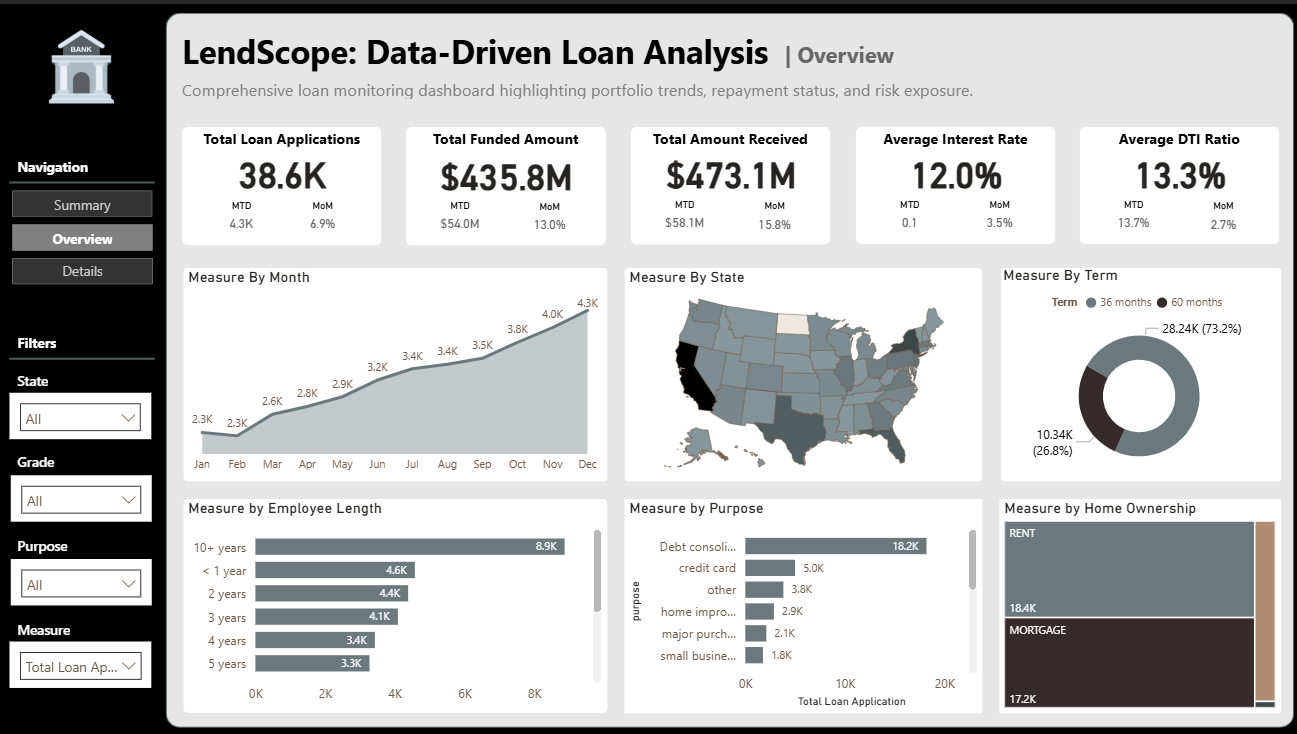

What the dashboard file says about the page in this screenshot:
{"tool":"powerbi","page":{"name":"Page 1","canvas":[1280,720],"ordinal":0},"visuals":[{"type":"group","id":"g1","title":"Heading","box":[0,8.8,1273.3,701.9],"z":0},{"type":"shape","title":"White Background","box":[165.7,8.8,1107.6,701.9],"z":0,"group":"g1"},{"type":"shape","title":"Total Loan Applications","box":[181.8,120,195.9,117.1],"z":0,"group":"g3"},{"type":"shape","title":"Total Loan Applications","box":[401.8,120,196.5,117.1],"z":0,"group":"g5"},{"type":"shape","title":"Total Loan Applications","box":[842.4,120,195.9,115.6],"z":0,"group":"g9"},{"type":"shape","title":"Total Loan Applications","box":[1062.4,120,196.1,115.9],"z":0,"group":"g10"},{"type":"shape","title":"Total Loan Applications","box":[622.4,120.6,195.8,116.1],"z":0,"group":"g7"},{"type":"shape","title":"Navigation Line","box":[12,166,142.4,16.7],"z":0,"group":"g11"},{"type":"shape","box":[183.6,258.2,529.1,220],"z":0,"group":"g12"},{"type":"shape","box":[731.4,258.6,529.1,220],"z":0,"group":"g13"},{"type":"group","id":"g2","title":"Filters","box":[12.5,320,142.9,35.7],"z":0,"group":"g16"},{"type":"shape","title":"Filters Line","box":[12.5,339,142.4,16.7],"z":0,"group":"g2"},{"type":"shape","title":"State","box":[20.4,361,73.9,18.3],"z":0,"group":"g4"},{"type":"shape","title":"Grade","box":[20.5,437.1,52.7,23.3],"z":0,"group":"g6"},{"type":"shape","box":[181.4,494.3,1078.6,201.4],"z":0,"group":"g14"},{"type":"shape","title":"Purpose","box":[20.5,518.6,52.7,23.3],"z":0,"group":"g8"},{"type":"image","title":"Logo","box":[0,21.3,165.6,82.1],"z":1000,"group":"g1"},{"type":"group","id":"g3","title":"Card 1","box":[181.8,120,195.9,117.1],"z":1000},{"type":"card","title":"Card - Loan Applications","fields":{"Values":["Bank_Loan_Data.Avg Interest Rate"]},"box":[858.4,144.4,165.7,41.7],"z":1000,"group":"g9"},{"type":"card","title":"Card - Loan Applications","fields":{"Values":["Bank_Loan_Data.Average DTI"]},"box":[1078.5,144.5,165.9,41.8],"z":1000,"group":"g10"},{"type":"card","title":"Card - Loan Applications","fields":{"Values":["Bank_Loan_Data.Total Loan Application"]},"box":[197.8,144.7,165.7,42.2],"z":1000,"group":"g3"},{"type":"card","title":"Card - Loan Applications","fields":{"Values":["Bank_Loan_Data.Total Amount Received"]},"box":[638.4,145.1,165.6,41.9],"z":1000,"group":"g7"},{"type":"card","title":"Card - Loan Applications","fields":{"Values":["Bank_Loan_Data.Total Funded Amount"]},"box":[417.9,146.5,166,41.2],"z":1000,"group":"g5"},{"type":"shape","title":"Navigation","box":[19.1,147,115.2,23.3],"z":1000,"group":"g11"},{"type":"shape","title":"Filters","box":[19.6,320,115.2,23.3],"z":1000,"group":"g2"},{"type":"group","id":"g4","title":"State","box":[12.8,361,139,66.2],"z":1000,"group":"g16"},{"type":"card","title":"Card - Loan Applications","fields":{"Values":["Bank_Loan_Data.Good Loan Percentage"]},"box":[218,366,165,41],"z":1000,"group":"g12"},{"type":"card","title":"Card - Loan Applications","fields":{"Values":["Bank_Loan_Data.Bad Loan Percentage"]},"box":[765.8,366.4,165,41],"z":1000,"group":"g13"},{"type":"slicer","fields":{"Values":["Bank_Loan_Data.address_state"]},"box":[12.8,382,139,45.2],"z":1000,"group":"g4"},{"type":"slicer","fields":{"Values":["Bank_Loan_Data.grade"]},"box":[13.8,463.1,138,45.3],"z":1000,"group":"g6"},{"type":"tableEx","fields":{"Values":["Bank_Loan_Data.loan_status","Bank_Loan_Data.Total Loan Application","Bank_Loan_Data.Total Funded Amount","Bank_Loan_Data.Total Amount Received","Bank_Loan_Data.MTD Funded Amount","Bank_Loan_Data.MTD Amount Received","Bank_Loan_Data.Avg Interest Rate","Bank_Loan_Data.Average DTI"]},"box":[196.4,510.1,1052.5,174.2],"z":1000,"group":"g14"},{"type":"slicer","fields":{"Values":["Bank_Loan_Data.purpose"]},"box":[13.8,544.6,138,45.3],"z":1000,"group":"g8"},{"type":"shape","title":"Title","box":[181.7,24.9,587.7,41.7],"z":2000,"group":"g1"},{"type":"group","id":"g5","title":"Card 2","box":[401.8,120,196.5,117.1],"z":2000},{"type":"shape","title":"Summary - A","box":[14.1,182.3,138,26.7],"z":2000,"group":"g15"},{"type":"card","title":"MTD","fields":{"Values":["Bank_Loan_Data.MTD Avg Interest Rate"]},"box":[866.9,191.4,57,37.2],"z":2000,"group":"g9"},{"type":"card","title":"MTD","fields":{"Values":["Bank_Loan_Data.MTD Avg DTI"]},"box":[1086.9,191.5,57,37.3],"z":2000,"group":"g10"},{"type":"card","title":"MTD","fields":{"Values":["Bank_Loan_Data.MTD Amount Received"]},"box":[646.8,192.3,56.9,37.4],"z":2000,"group":"g7"},{"type":"card","title":"MTD","fields":{"Values":["Bank_Loan_Data.MTD Loan Applications"]},"box":[218.3,192.8,42.9,37.1],"z":2000,"group":"g3"},{"type":"card","title":"MTD","fields":{"Values":["Bank_Loan_Data.MTD Funded Amount"]},"box":[426.3,192.9,57.1,36.8],"z":2000,"group":"g5"},{"type":"shape","box":[763.3,269.3,166.7,37.8],"z":2000,"group":"g13"},{"type":"donutChart","fields":{"Y":["Bank_Loan_Data.Total Loan Application"],"Category":["Bank_Loan_Data.Good vs Bad Loan"]},"box":[193,295,212,183],"z":2000,"group":"g12"},{"type":"group","id":"g6","title":"Grade","box":[13.8,437.1,138.6,71.4],"z":2000,"group":"g16"},{"type":"shape","title":"Subtitle","box":[181.7,72.8,786.5,20.9],"z":3000,"group":"g1"},{"type":"group","id":"g7","title":"Card 3","box":[622.4,120.6,195.9,116.5],"z":3000},{"type":"card","title":"MoM","fields":{"Values":["Bank_Loan_Data.MoM Avg Interest Rate"]},"box":[955,191.7,56.7,36.9],"z":3000,"group":"g9"},{"type":"card","title":"MoM","fields":{"Values":["Bank_Loan_Data.MoM Avg DTI"]},"box":[1175.1,191.9,56.8,36.9],"z":3000,"group":"g10"},{"type":"card","title":"MoM","fields":{"Values":["Bank_Loan_Data.MoM Amount Received"]},"box":[734.9,192.6,56.7,37],"z":3000,"group":"g7"},{"type":"card","title":"MoM","fields":{"Values":["Bank_Loan_Data.Month On Month Loan Applications"]},"box":[298.3,192.8,42.9,37.1],"z":3000,"group":"g3"},{"type":"card","title":"MoM","fields":{"Values":["Bank_Loan_Data.MoM Funded Amount"]},"box":[514.6,193.3,56.8,36.4],"z":3000,"group":"g5"},{"type":"shape","title":"Details - IA","box":[14,249.3,138.5,26.2],"z":3000,"group":"g15"},{"type":"shape","box":[215.5,268.9,166.7,37.8],"z":3000,"group":"g12"},{"type":"donutChart","fields":{"Y":["Bank_Loan_Data.Total Loan Application"],"Category":["Bank_Loan_Data.Good vs Bad Loan"]},"box":[740.8,295.4,212,183],"z":3000,"group":"g13"},{"type":"group","id":"g8","title":"Purpose","box":[13.8,518.6,138.6,71.4],"z":3000,"group":"g16"},{"type":"shape","title":"Summary","box":[769.4,34.7,114.1,29.4],"z":4000,"group":"g1"},{"type":"group","id":"g9","title":"Card 4","box":[842.4,120,195.9,117.1],"z":4000},{"type":"shape","title":"Overview - IA","box":[13.9,215.8,138.3,26.7],"z":4000,"group":"g15"},{"type":"cardVisual","fields":{"Data":["Bank_Loan_Data.Good Loan Applications","Bank_Loan_Data.Good Loan Funded Amount","Bank_Loan_Data.Good Loan Amount Received"]},"box":[426.2,268.8,277.5,200],"z":4000,"group":"g12"},{"type":"cardVisual","fields":{"Data":["Bank_Loan_Data.Bad Loan Applications","Bank_Loan_Data.Bad Loan Funded Amount","Bank_Loan_Data.Bad Loan Amount Received"]},"box":[974,269.2,277.5,200],"z":4000,"group":"g13"},{"type":"group","id":"g10","title":"Card 5","box":[1062.4,120,197.1,117.1],"z":5000},{"type":"group","id":"g11","title":"Navigation","box":[12,147,142.4,35.7],"z":6000,"group":"g15"},{"type":"group","id":"g12","title":"Good Loan","box":[183.6,258.2,529.1,220],"z":6000},{"type":"group","id":"g13","title":"Bad Loan","box":[731.4,258.6,529.1,220],"z":7000},{"type":"group","id":"g14","title":"Table","box":[181.4,494.3,1078.6,201.4],"z":8000},{"type":"group","id":"g15","title":"Navigation Whole","box":[12,147,142.3,128.8],"z":9000},{"type":"group","id":"g16","title":"Filters Whole","box":[12.3,320,143,351.5],"z":10000}]}

Visuals, with their boxes in screenshot pixels (x1, y1, x2, y2), scaled from the page's 1280x720 canvas onto the 1297x734 screenshot:
"Heading" group: BBox(0, 9, 1290, 725)
"White Background" shape: BBox(168, 9, 1290, 725)
"Total Loan Applications" shape: BBox(184, 122, 383, 242)
"Total Loan Applications" shape: BBox(407, 122, 606, 242)
"Total Loan Applications" shape: BBox(854, 122, 1052, 240)
"Total Loan Applications" shape: BBox(1077, 122, 1275, 240)
"Total Loan Applications" shape: BBox(631, 123, 829, 241)
"Navigation Line" shape: BBox(12, 169, 156, 186)
shape: BBox(186, 263, 722, 487)
shape: BBox(741, 264, 1277, 488)
"Filters" group: BBox(13, 326, 157, 363)
"Filters Line" shape: BBox(13, 346, 157, 363)
"State" shape: BBox(21, 368, 96, 387)
"Grade" shape: BBox(21, 446, 74, 469)
shape: BBox(184, 504, 1277, 709)
"Purpose" shape: BBox(21, 529, 74, 552)
"Logo" image: BBox(0, 22, 168, 105)
"Card 1" group: BBox(184, 122, 383, 242)
"Card - Loan Applications" card: BBox(870, 147, 1038, 190)
"Card - Loan Applications" card: BBox(1093, 147, 1261, 190)
"Card - Loan Applications" card: BBox(200, 148, 368, 191)
"Card - Loan Applications" card: BBox(647, 148, 815, 191)
"Card - Loan Applications" card: BBox(423, 149, 592, 191)
"Navigation" shape: BBox(19, 150, 136, 174)
"Filters" shape: BBox(20, 326, 137, 350)
"State" group: BBox(13, 368, 154, 436)
"Card - Loan Applications" card: BBox(221, 373, 388, 415)
"Card - Loan Applications" card: BBox(776, 374, 943, 415)
slicer - Bank_Loan_Data.address_state: BBox(13, 389, 154, 436)
slicer - Bank_Loan_Data.grade: BBox(14, 472, 154, 518)
tableEx - Bank_Loan_Data.loan_status x Bank_Loan_Data.Total Loan Application: BBox(199, 520, 1265, 698)
slicer - Bank_Loan_Data.purpose: BBox(14, 555, 154, 601)
"Title" shape: BBox(184, 25, 780, 68)
"Card 2" group: BBox(407, 122, 606, 242)
"Summary - A" shape: BBox(14, 186, 154, 213)
"MTD" card: BBox(878, 195, 936, 233)
"MTD" card: BBox(1101, 195, 1159, 233)
"MTD" card: BBox(655, 196, 713, 234)
"MTD" card: BBox(221, 197, 265, 234)
"MTD" card: BBox(432, 197, 490, 234)
shape: BBox(773, 275, 942, 313)
donutChart - Bank_Loan_Data.Total Loan Application x Bank_Loan_Data.Good vs Bad Loan: BBox(196, 301, 410, 487)
"Grade" group: BBox(14, 446, 154, 518)
"Subtitle" shape: BBox(184, 74, 981, 96)
"Card 3" group: BBox(631, 123, 829, 242)
"MoM" card: BBox(968, 195, 1025, 233)
"MoM" card: BBox(1191, 196, 1248, 233)
"MoM" card: BBox(745, 196, 802, 234)
"MoM" card: BBox(302, 197, 346, 234)
"MoM" card: BBox(521, 197, 579, 234)
"Details - IA" shape: BBox(14, 254, 155, 281)
shape: BBox(218, 274, 387, 313)
donutChart - Bank_Loan_Data.Total Loan Application x Bank_Loan_Data.Good vs Bad Loan: BBox(751, 301, 965, 488)
"Purpose" group: BBox(14, 529, 154, 601)
"Summary" shape: BBox(780, 35, 895, 65)
"Card 4" group: BBox(854, 122, 1052, 242)
"Overview - IA" shape: BBox(14, 220, 154, 247)
cardVisual - Bank_Loan_Data.Good Loan Applications x Bank_Loan_Data.Good Loan Funded Amount: BBox(432, 274, 713, 478)
cardVisual - Bank_Loan_Data.Bad Loan Applications x Bank_Loan_Data.Bad Loan Funded Amount: BBox(987, 274, 1268, 478)
"Card 5" group: BBox(1077, 122, 1276, 242)
"Navigation" group: BBox(12, 150, 156, 186)
"Good Loan" group: BBox(186, 263, 722, 487)
"Bad Loan" group: BBox(741, 264, 1277, 488)
"Table" group: BBox(184, 504, 1277, 709)
"Navigation Whole" group: BBox(12, 150, 156, 281)
"Filters Whole" group: BBox(12, 326, 157, 685)
